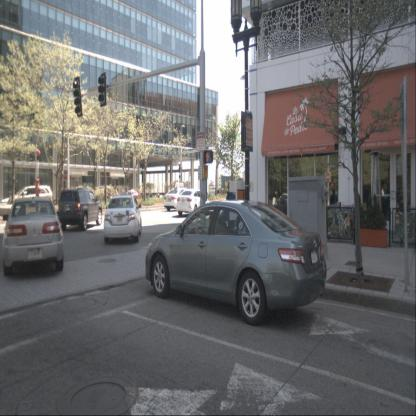human-pedestrian-adult: (226, 182, 237, 238)
vehicle-car: (145, 199, 327, 327), (2, 196, 64, 276), (1, 183, 53, 222), (58, 186, 102, 230), (104, 195, 142, 245), (163, 182, 196, 211), (177, 189, 212, 216), (274, 192, 296, 220), (124, 188, 141, 200)
